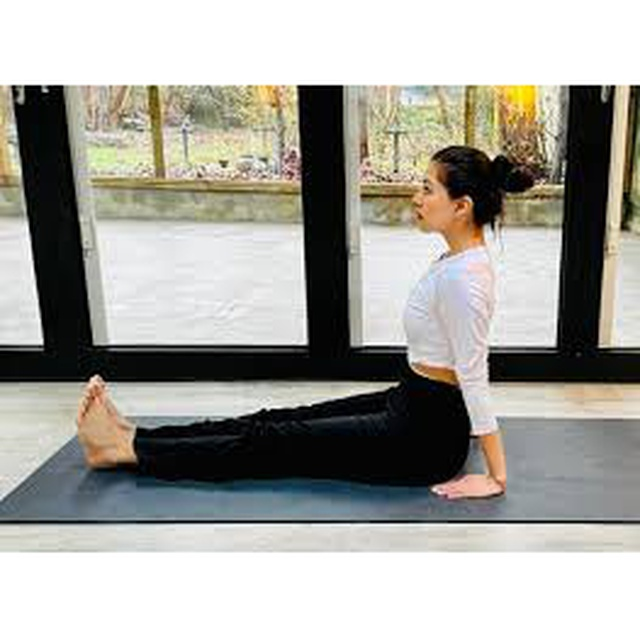Staff_Pose: (73, 144, 535, 503)
